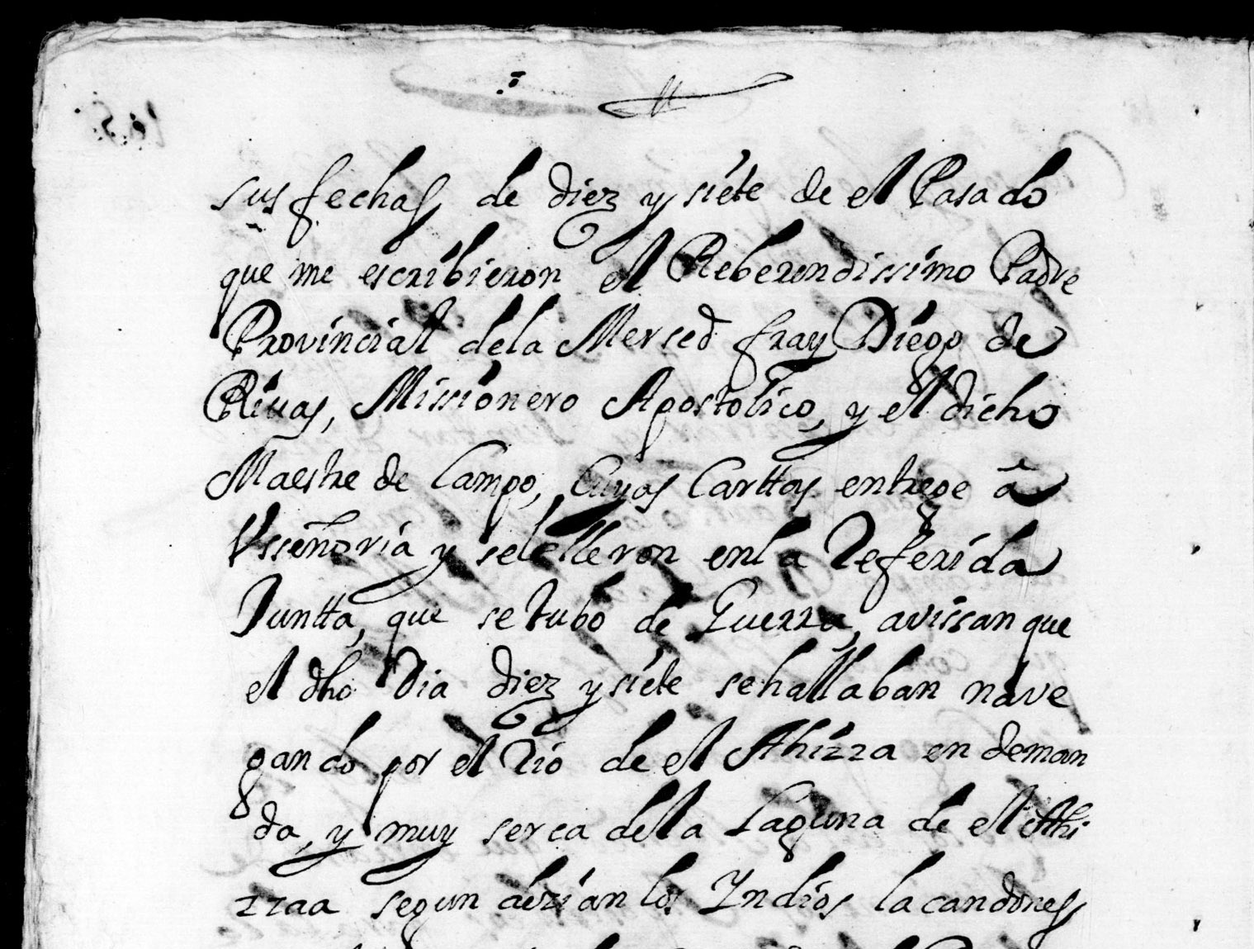lacandon: (874, 850, 1087, 948)
